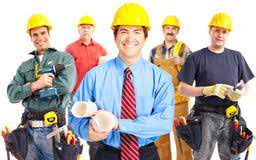Person_wearing_helmet: (110, 1, 151, 35), (22, 15, 54, 41), (206, 9, 232, 34)
